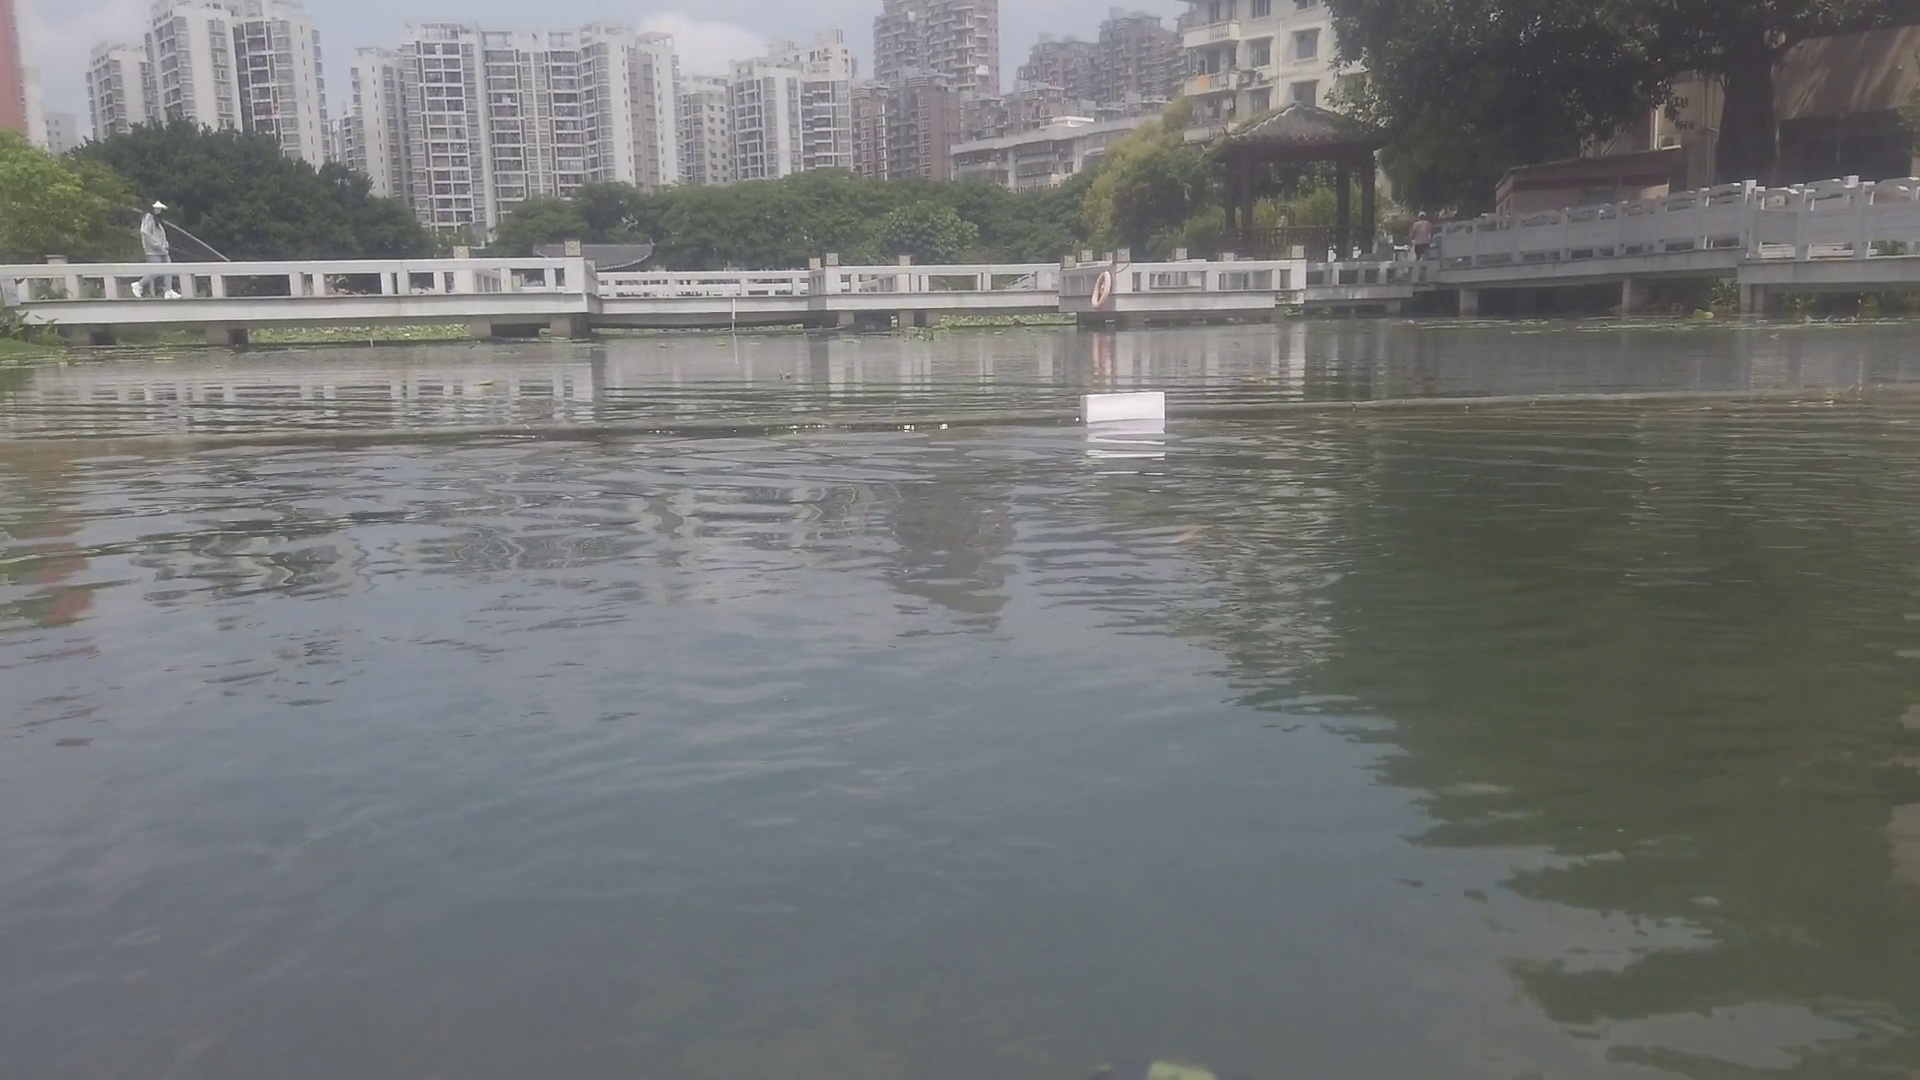carton: (1079, 392, 1170, 423)
